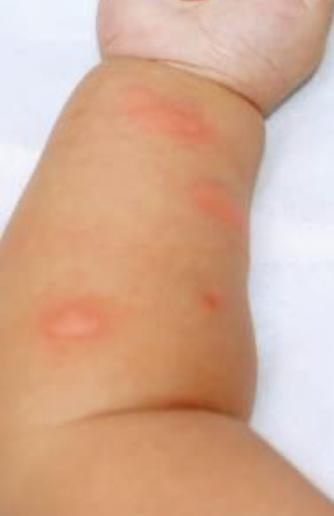Gnat-bites: (121, 82, 210, 150), (40, 304, 107, 344), (191, 186, 242, 226), (203, 288, 221, 316)
